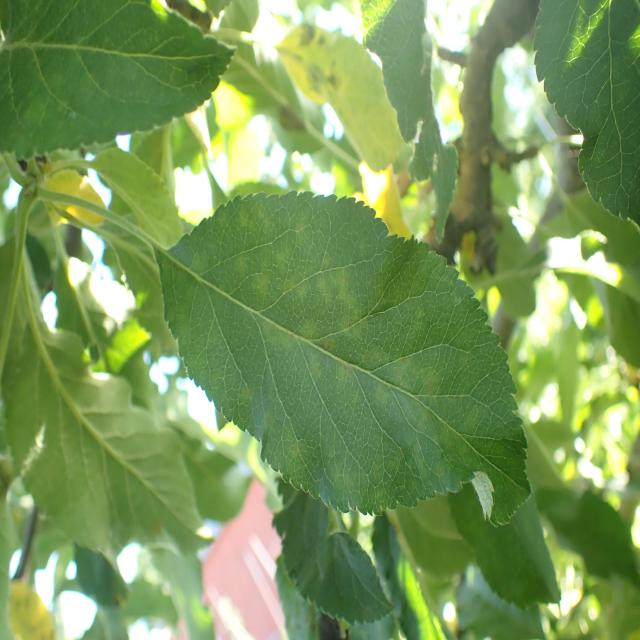scab: (176, 195, 485, 494)
